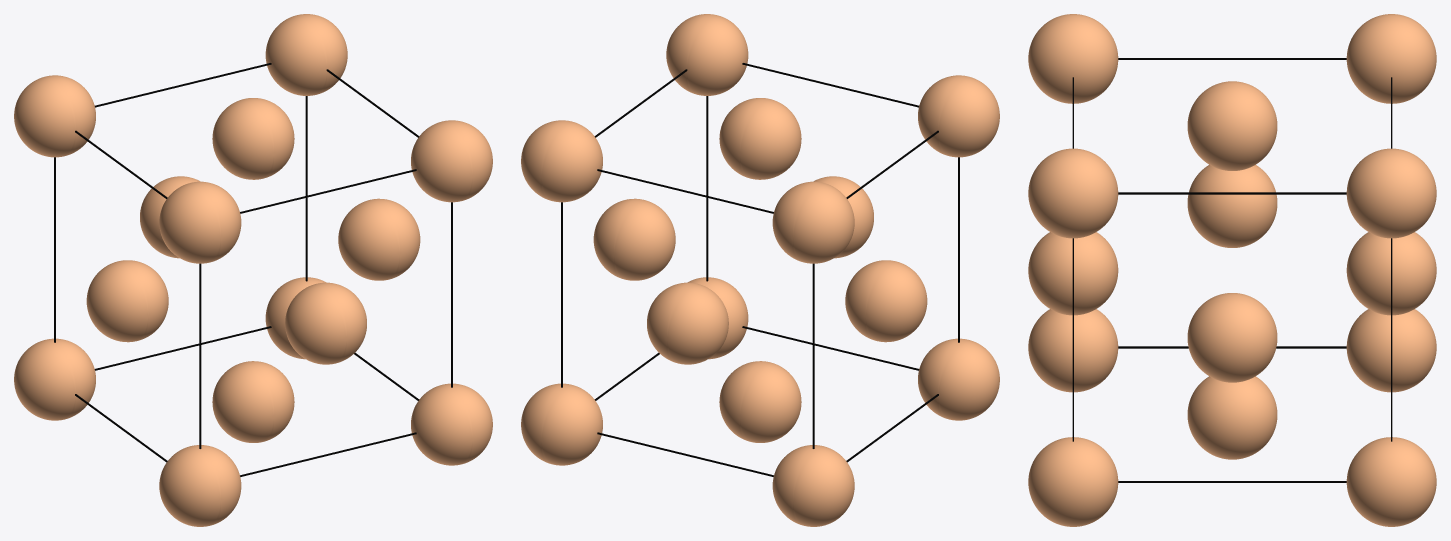
3 views of the same model, side by side, from view 1: azimuth 30°, elevation 25°; view 2: azimuth 150°, elevation 25°; view 3: azimuth 270°, elevation 25° (orthographic). The views are drawn at different scales.
Visible parts, largest first — view 1: UnitCellSegment_0; view 2: UnitCellSegment_0; view 3: UnitCellSegment_0.
Boxes of the visible parts, x1=… form: UnitCellSegment_0: x1=14, y1=14, x2=492, y2=526; UnitCellSegment_0: x1=521, y1=14, x2=999, y2=526; UnitCellSegment_0: x1=1028, y1=14, x2=1436, y2=526.
Bounding box in the file's own units: 0.5194 × 0.5194 × 0.5194.
